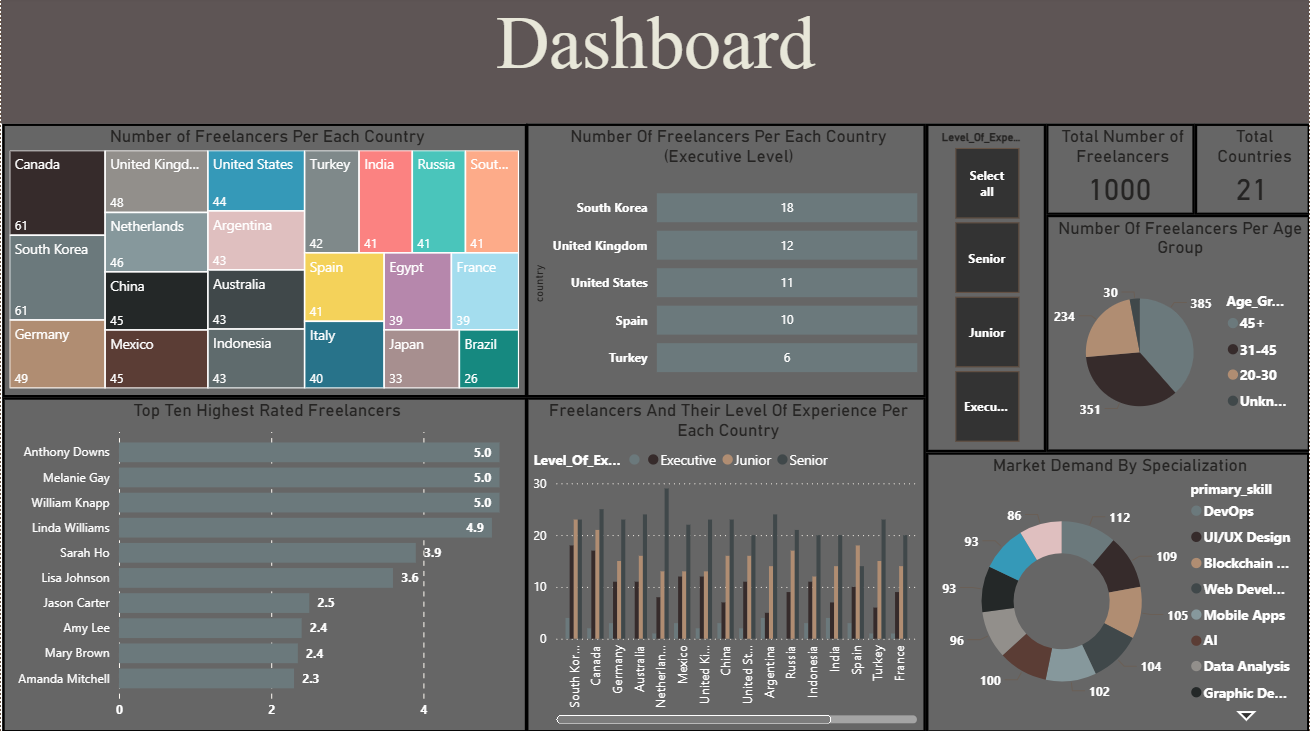

The dashboard page shown, as its layout file describes it:
{"tool":"powerbi","page":{"name":"Dashboard","canvas":[1280,720],"ordinal":0},"visuals":[{"type":"treemap","title":"Number of Freelancers Per Each Country","fields":{"Group":["DataProcessed.country"],"Values":["Count(DataProcessed.freelancer_ID)"]},"box":[1.4,125.3,514,267.7],"z":0},{"type":"textbox","box":[0,0,1280.3,124.7],"z":1000},{"type":"clusteredBarChart","title":"Top Ten Highest Rated Freelancers","fields":{"Category":["DataProcessed.name"],"Y":["Avg(DataProcessed.rating)"]},"box":[1.2,392.5,513.6,327.7],"z":2000},{"type":"hundredPercentStackedBarChart","title":"Number Of Freelancers Per Each Country (Executive Level)","fields":{"Category":["DataProcessed.country"],"Y":["CountNonNull(DataProcessed.freelancer_ID)"]},"box":[514,125.3,391.5,267.7],"z":3000},{"type":"card","title":"Total Countries","fields":{"Values":["Count(DataProcessed.country)"]},"box":[1167.5,125.3,112.5,89.7],"z":4000},{"type":"card","title":"Total Number of Freelancers","fields":{"Values":["Count(DataProcessed.freelancer_ID)"]},"box":[1022.3,125.3,145.2,89.7],"z":5000},{"type":"clusteredColumnChart","title":"Freelancers And Their Level Of Experience Per Each Country","fields":{"Category":["DataProcessed.country"],"Y":["CountNonNull(DataProcessed.freelancer_ID)"],"Series":["DataProcessed.Level_Of_Experience"]},"box":[513.6,392.5,391.3,327.7],"z":6000},{"type":"pieChart","title":"Number Of Freelancers Per Age Group","fields":{"Category":["DataProcessed.Age_Group"],"Y":["Count(DataProcessed.freelancer_ID)"]},"box":[1022.3,214,258,232.3],"z":7000},{"type":"donutChart","title":"Market Demand By Specialization","fields":{"Category":["DataProcessed.primary_skill"],"Y":["Count(DataProcessed.freelancer_ID)"]},"box":[905,446,375,274],"z":8000},{"type":"slicer","fields":{"Values":["DataProcessed.Level_Of_Experience"]},"box":[904.9,124.7,117.4,321.6],"z":9000}]}

Visuals, with their boxes in screenshot pixels (x1, y1, x2, y2), scaled from the page's 1280x720 canvas onto the 1310x731 screenshot:
"Number of Freelancers Per Each Country" treemap: (x1=1, y1=127, x2=527, y2=399)
textbox: (x1=0, y1=0, x2=1309, y2=127)
"Top Ten Highest Rated Freelancers" clusteredBarChart: (x1=1, y1=398, x2=527, y2=730)
"Number Of Freelancers Per Each Country (Executive Level)" hundredPercentStackedBarChart: (x1=526, y1=127, x2=927, y2=399)
"Total Countries" card: (x1=1195, y1=127, x2=1309, y2=218)
"Total Number of Freelancers" card: (x1=1046, y1=127, x2=1195, y2=218)
"Freelancers And Their Level Of Experience Per Each Country" clusteredColumnChart: (x1=526, y1=398, x2=926, y2=730)
"Number Of Freelancers Per Age Group" pieChart: (x1=1046, y1=217, x2=1309, y2=453)
"Market Demand By Specialization" donutChart: (x1=926, y1=453, x2=1309, y2=730)
slicer - DataProcessed.Level_Of_Experience: (x1=926, y1=127, x2=1046, y2=453)
